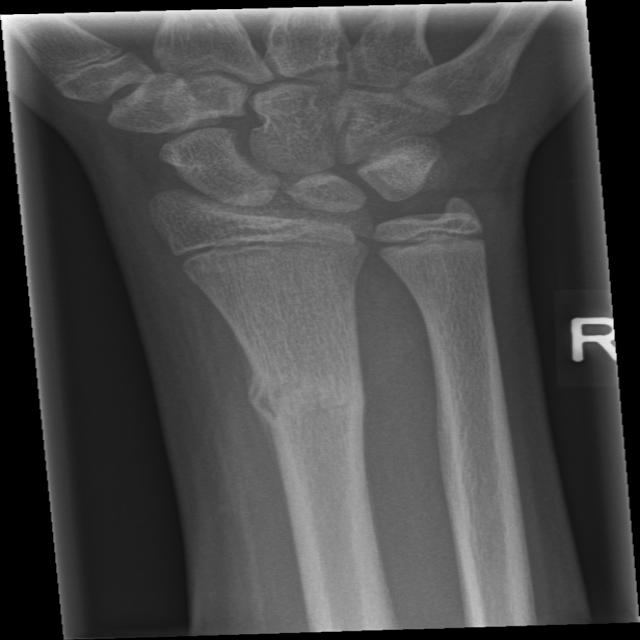radius fracture: (212, 336, 392, 471)
